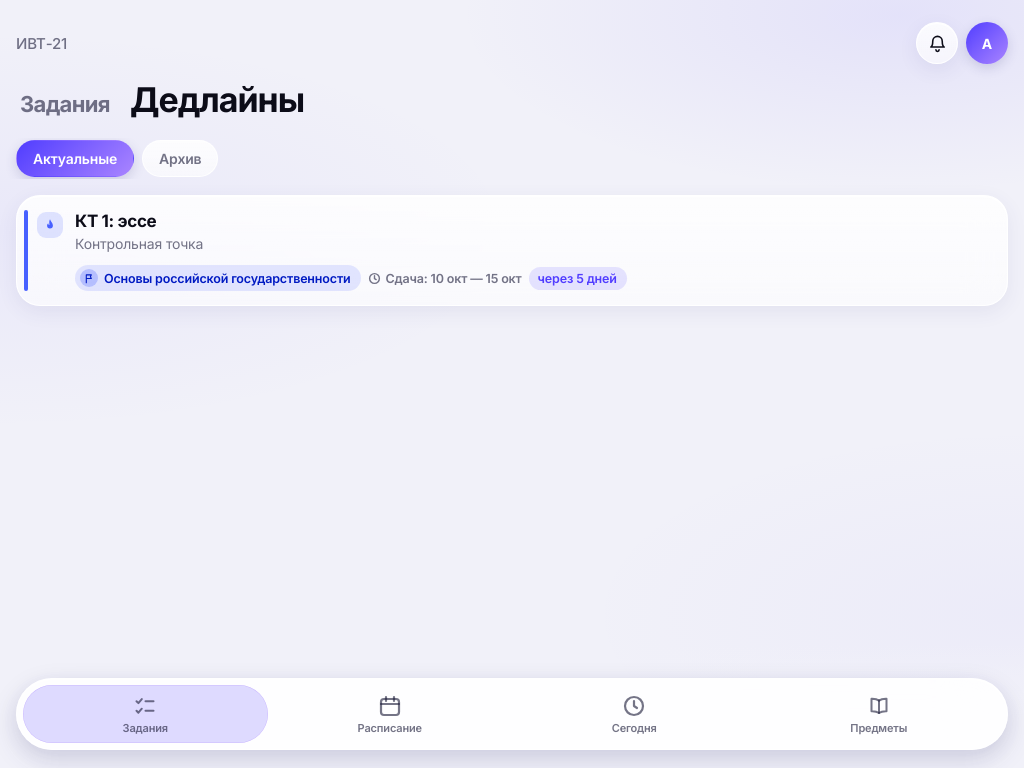
it: important deadlines › keeps a control point out of homework and preserves uncertain date windows
Expected: the text "КТ 1: эссе" is shown, [75, 211, 156, 231]
Expected: the text "Основы российской государственности" is shown, [75, 265, 360, 291]
Click the link with aria-label "Открыть событие:" at (512, 251), box [16, 195, 1008, 306]
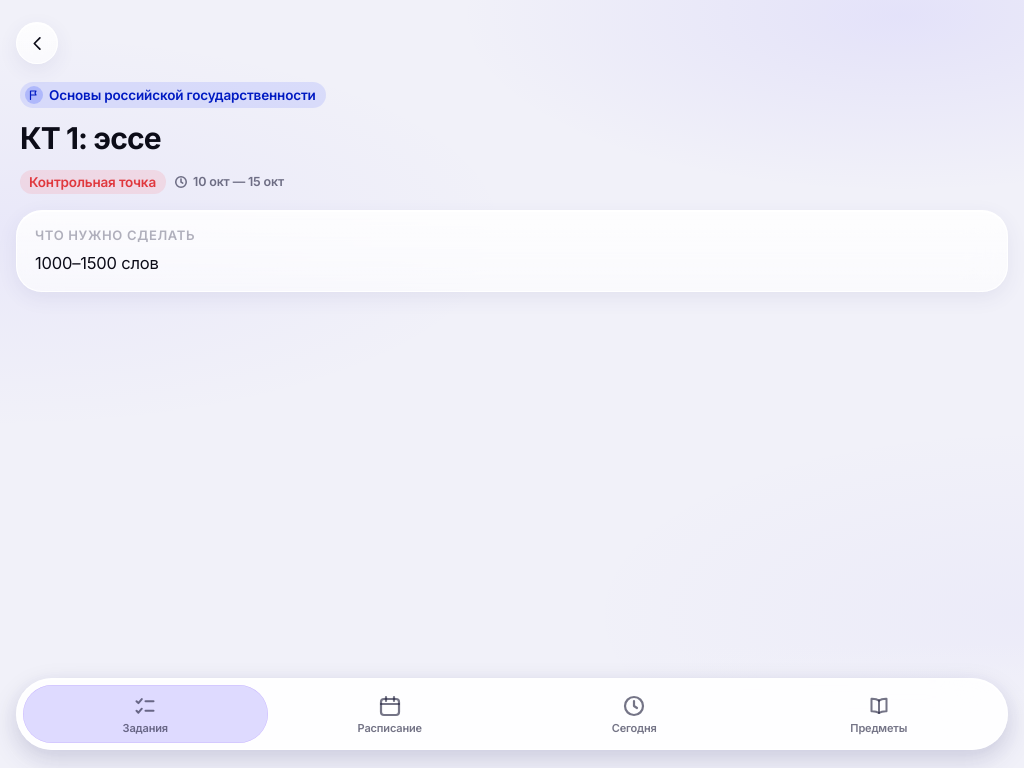
Expected: the heading "КТ 1: эссе" is shown, [20, 120, 161, 156]
Result: the text "1000–1500 слов" is shown at [35, 253, 158, 273]
Result: the heading "Что нужно сделать" is shown at [35, 227, 195, 243]
Click the link named "Назад" at (37, 43), box [16, 22, 58, 64]
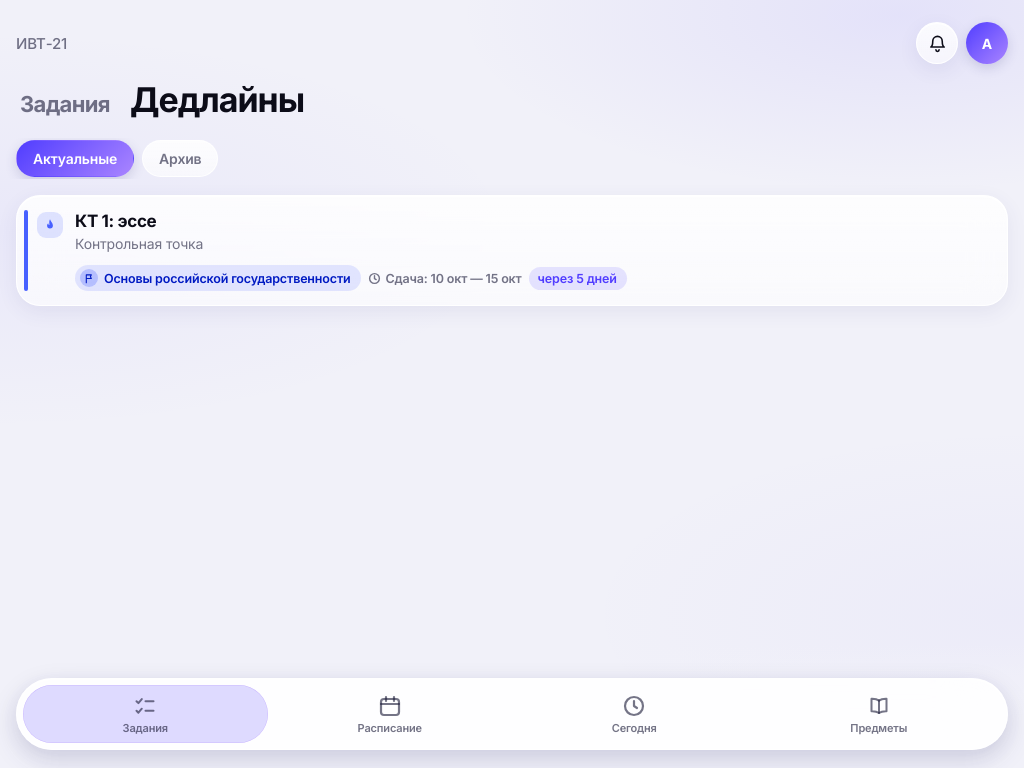
Result: the button "Актуальные" is shown at [16, 140, 134, 177]
